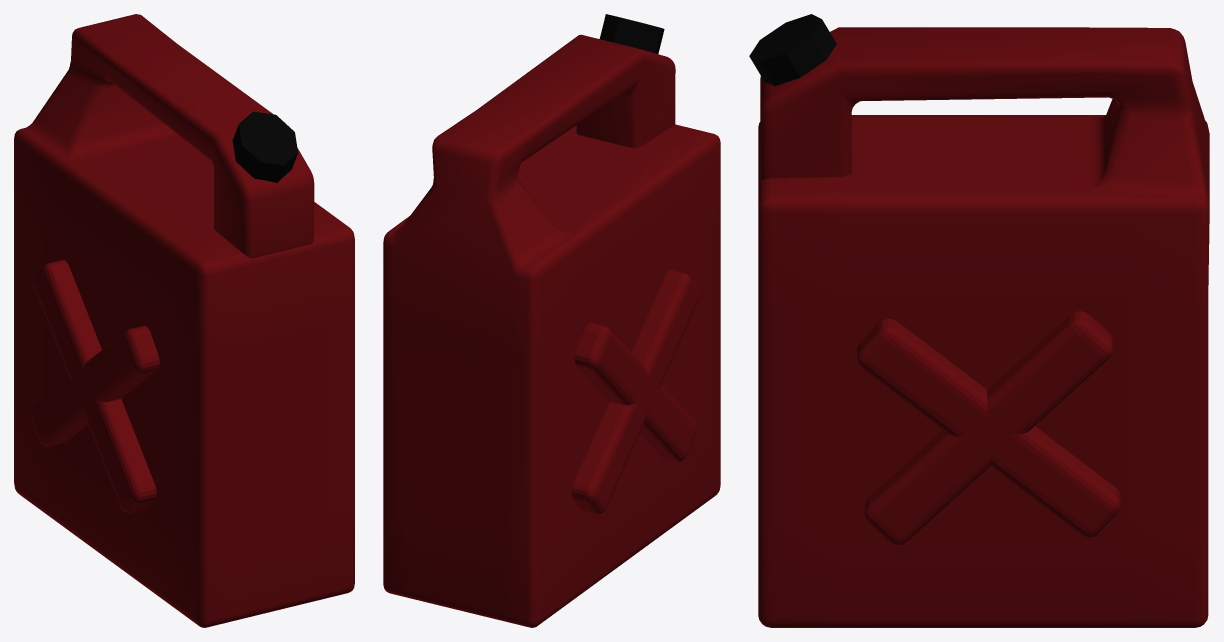
File: jerigen (1).fbx
3 views of the same model, side by side, from view 1: azimuth 30°, elevation 25°; view 2: azimuth 150°, elevation 25°; view 3: azimuth 270°, elevation 25° (orthographic). The views are drawn at different scales.
Visible parts, largest first — view 1: Cube; view 2: Cube; view 3: Cube.
Part boxes in pixels (left/top/right/bottom): Cube: left=14, top=14, right=354, bottom=627; Cube: left=383, top=14, right=720, bottom=627; Cube: left=749, top=14, right=1209, bottom=627.
Size of the model in its own units: 286 by 663 by 488.
